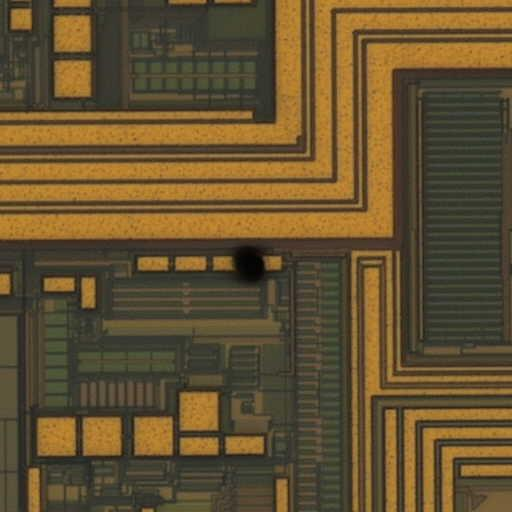PIQ PARTICLE: (223, 237, 279, 293)
